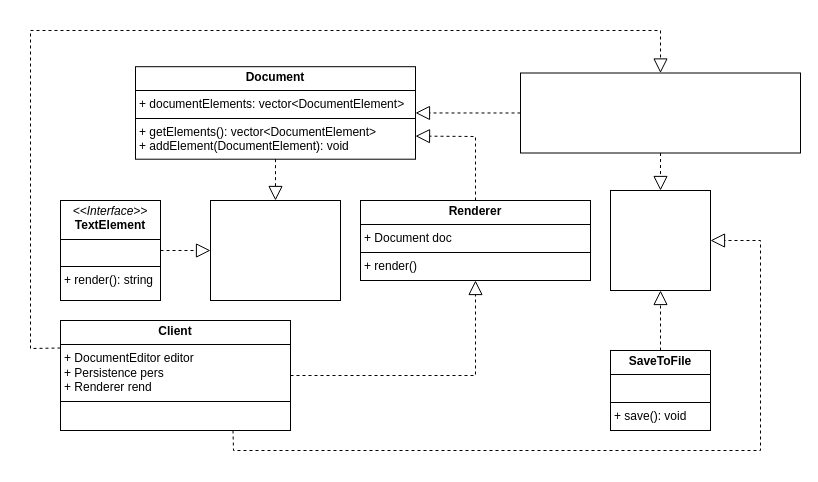
This 818x482 diagram has some shape labels left out. Here are the shapes that lost their labels. From the top down, the box of each, then its label:
(520, 72, 800, 153): DocumentEditor + Document doc + addTextElement(Document, TextElement): void
(210, 200, 340, 300): <<Interface>> DocumentElement + render(): string
(610, 190, 710, 290): <<Interface>> Persistence + save(): void
